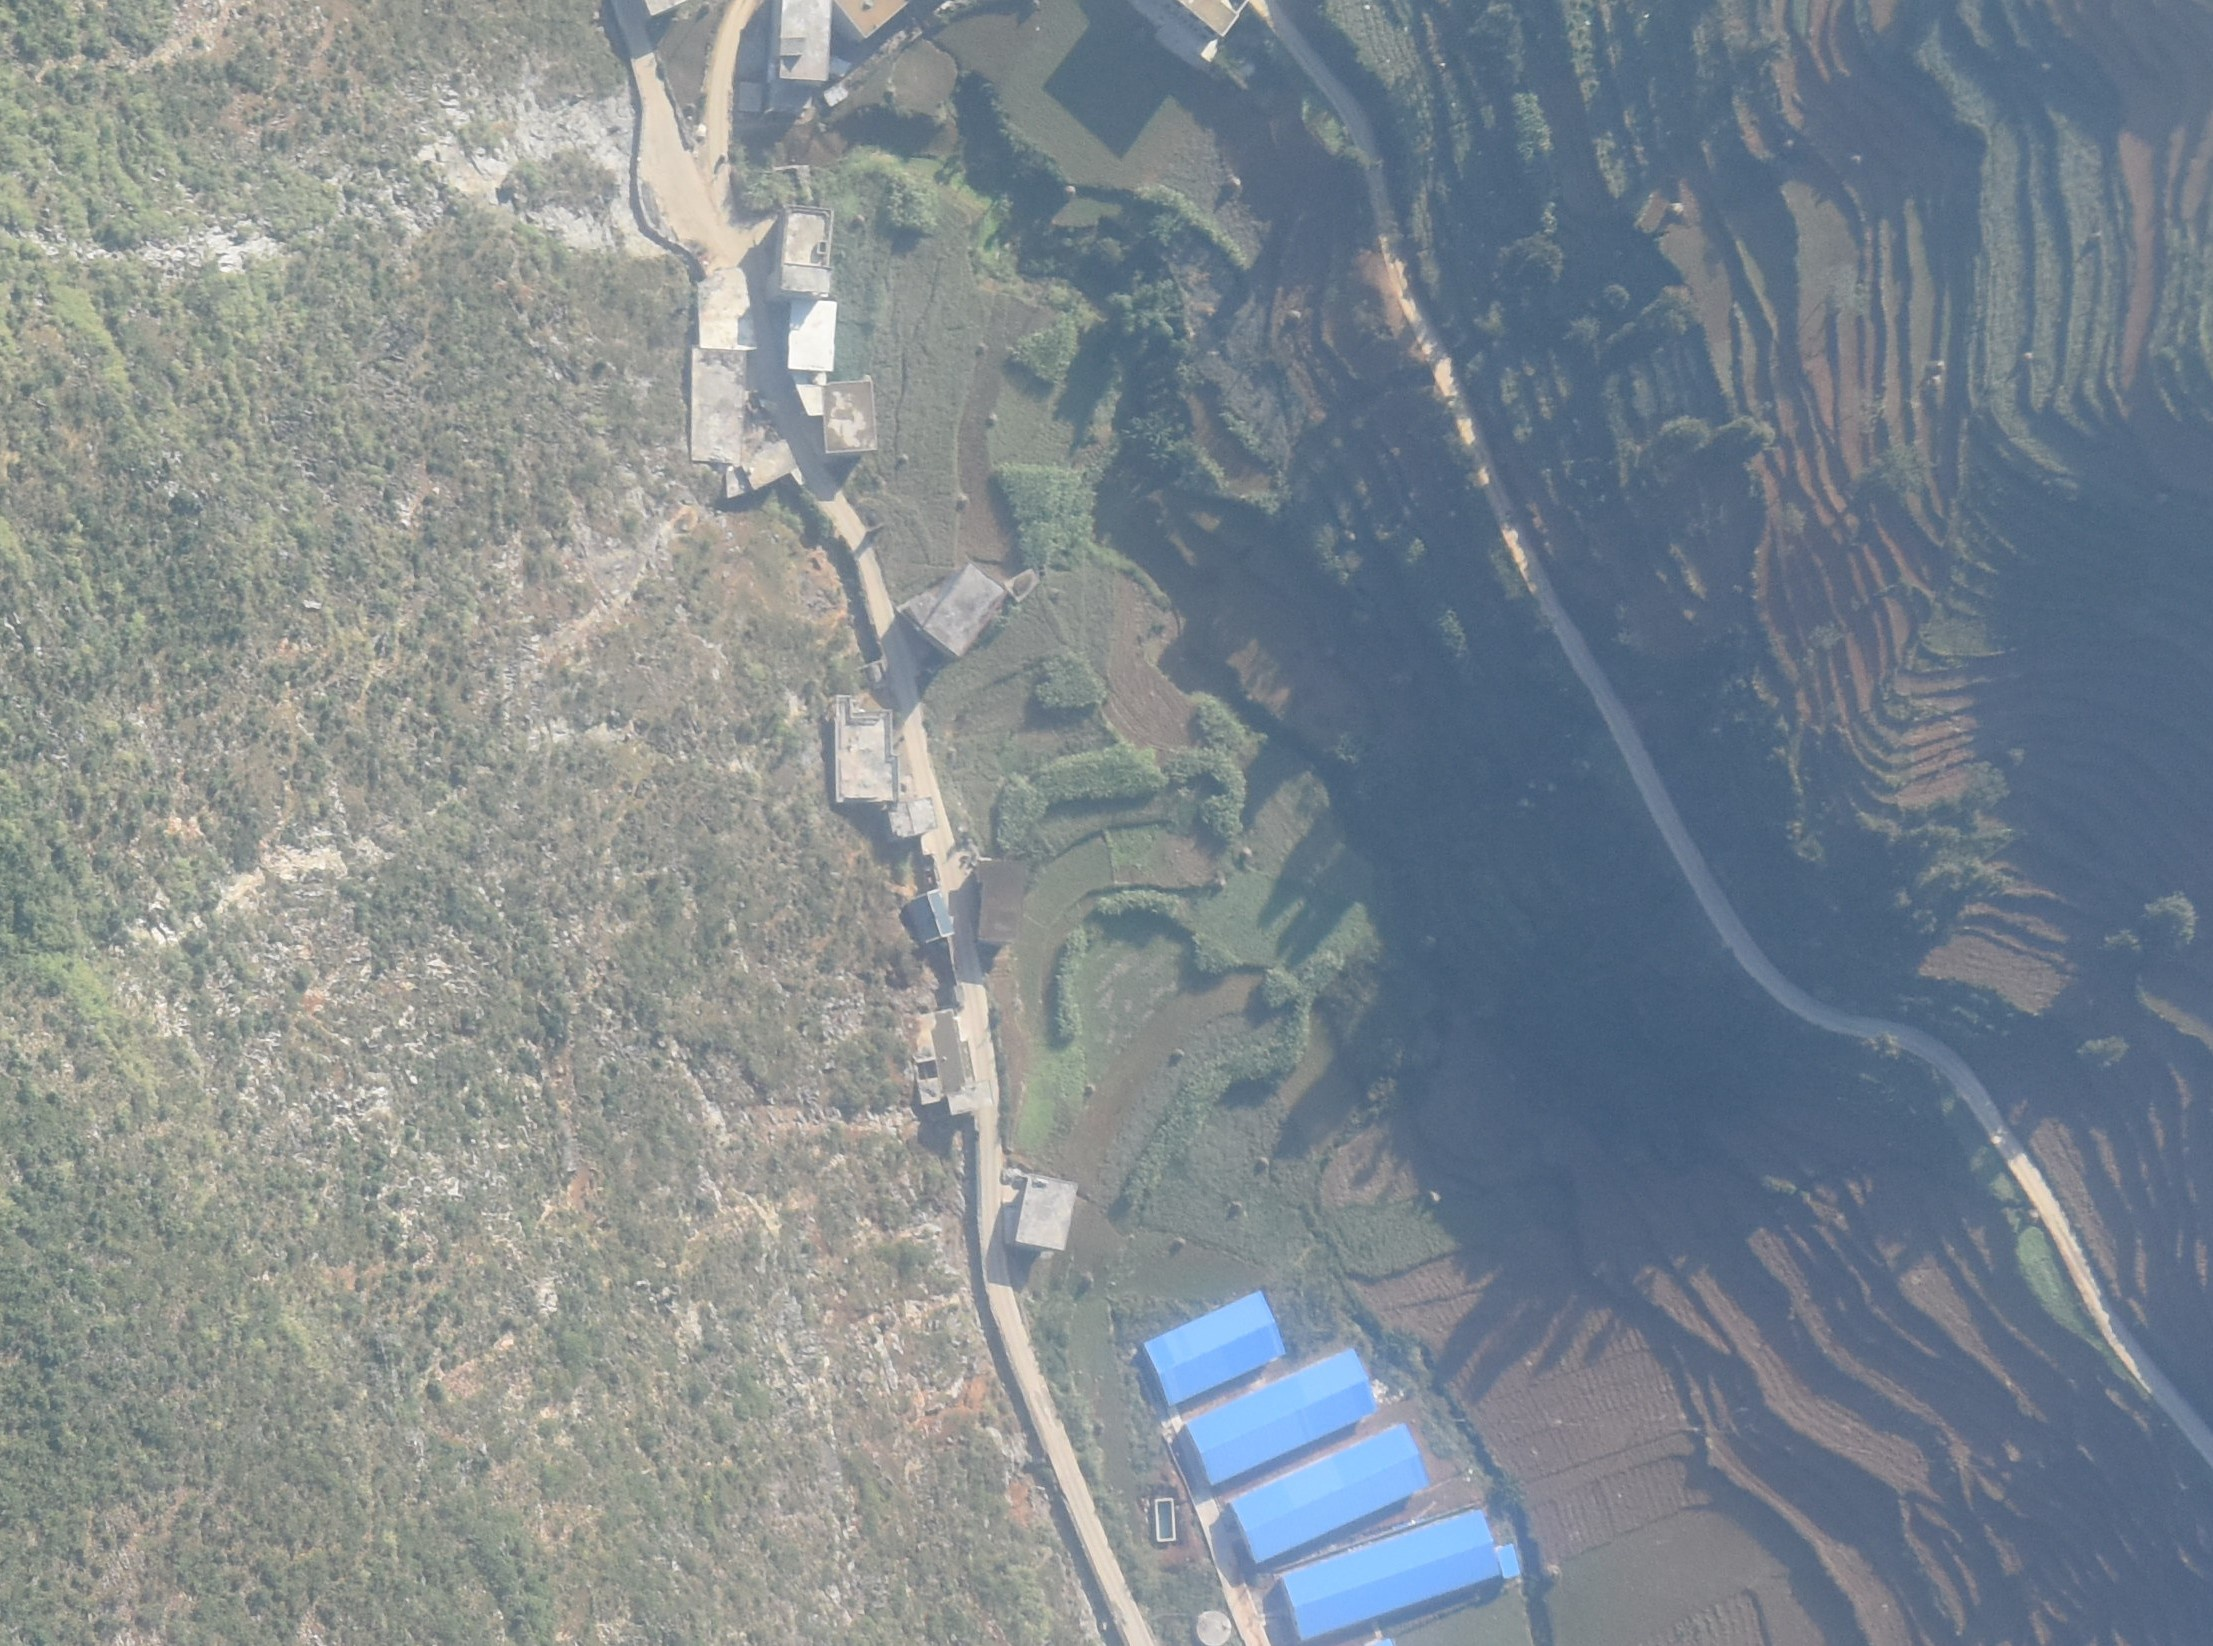building: (692, 272, 757, 463), (902, 562, 1006, 658), (834, 694, 900, 805), (911, 1010, 979, 1114), (1016, 1169, 1081, 1254), (777, 2, 832, 82), (783, 206, 833, 290), (976, 862, 1026, 945), (825, 381, 878, 452), (790, 300, 835, 372), (740, 439, 797, 491), (909, 888, 953, 943), (888, 797, 936, 835)
prefabricated-house: (1223, 1420, 1427, 1565), (1180, 1346, 1378, 1488), (1279, 1511, 1505, 1633), (1140, 1289, 1288, 1406), (1496, 1544, 1520, 1578)
well: (1194, 1610, 1233, 1645)
